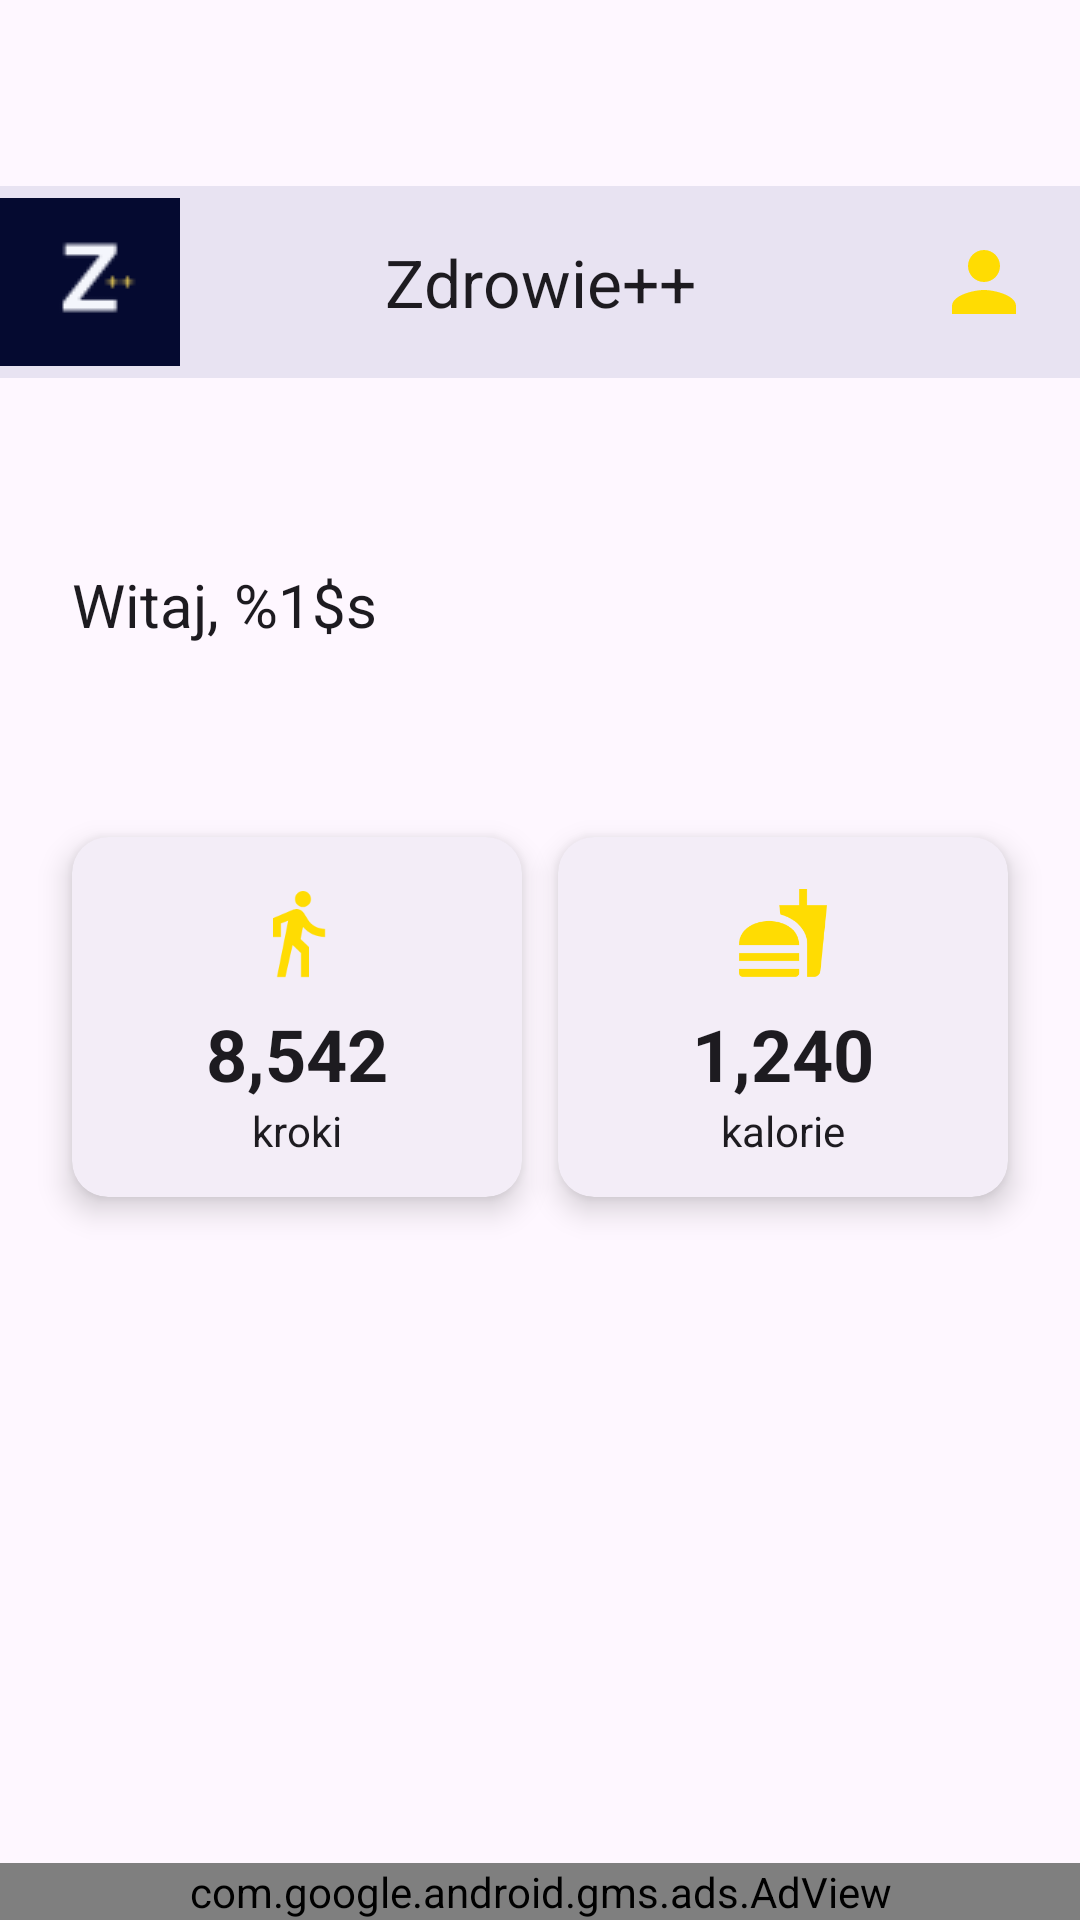

Point at icon controls on the screen. Image size 1080px×1920px, points as [x,y].
calories: [783,933]
profil: [984,282]
steps: [299,934]
